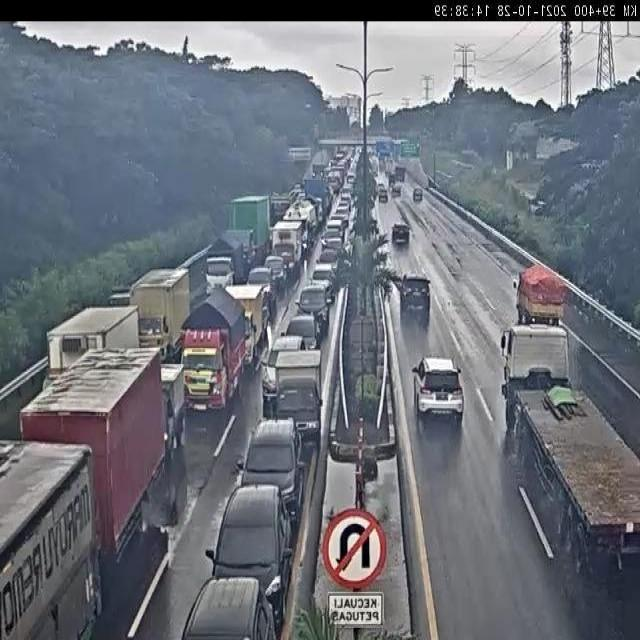Car: (236, 420, 304, 520), (186, 571, 275, 640), (408, 353, 475, 433), (260, 335, 306, 415), (398, 275, 432, 328), (284, 313, 320, 357), (298, 283, 329, 323), (247, 265, 277, 306), (311, 264, 336, 300), (320, 236, 343, 259), (391, 223, 411, 244), (378, 187, 388, 202), (413, 188, 423, 201), (392, 184, 401, 197)
Truck: (0, 356, 182, 610), (512, 330, 640, 590), (178, 290, 253, 416), (500, 320, 572, 428), (45, 306, 140, 382), (130, 270, 194, 363), (510, 260, 572, 320), (227, 193, 270, 255), (206, 233, 252, 287), (270, 218, 308, 282), (161, 362, 187, 452), (273, 354, 324, 385), (303, 178, 330, 219), (269, 194, 294, 234), (394, 165, 405, 182)
